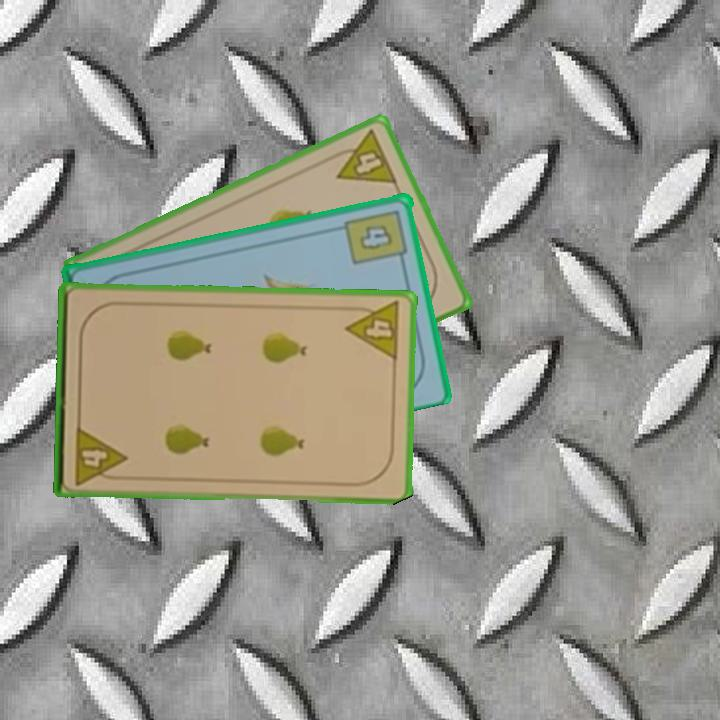4b: (342, 205, 411, 268)
4p: (325, 126, 401, 187), (343, 298, 403, 363), (71, 422, 129, 488)
